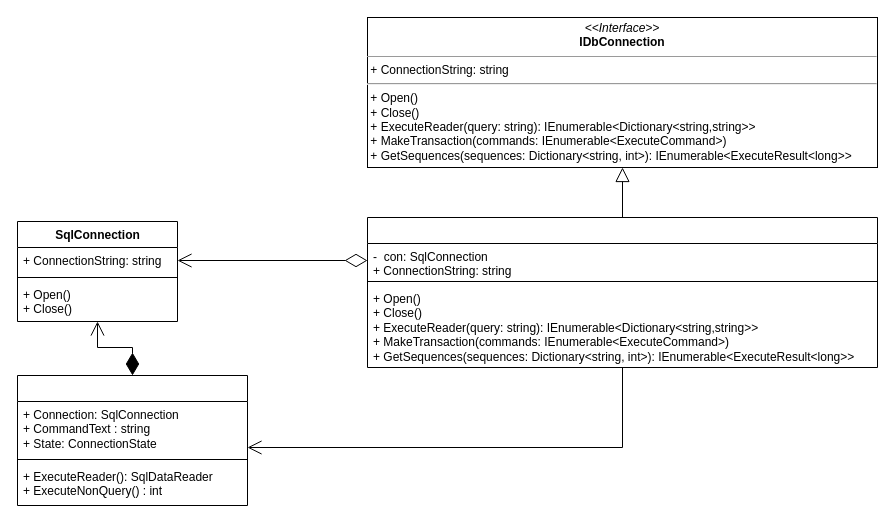
The diagram is 895 pixels wide and 526 high, and some of its shapes have lost their labels. Here are the shapes that lost their labels. From the top down, the box of each, then its label:
(366, 216, 878, 368): MSSqlConnection
(16, 374, 248, 506): SqlCommand
